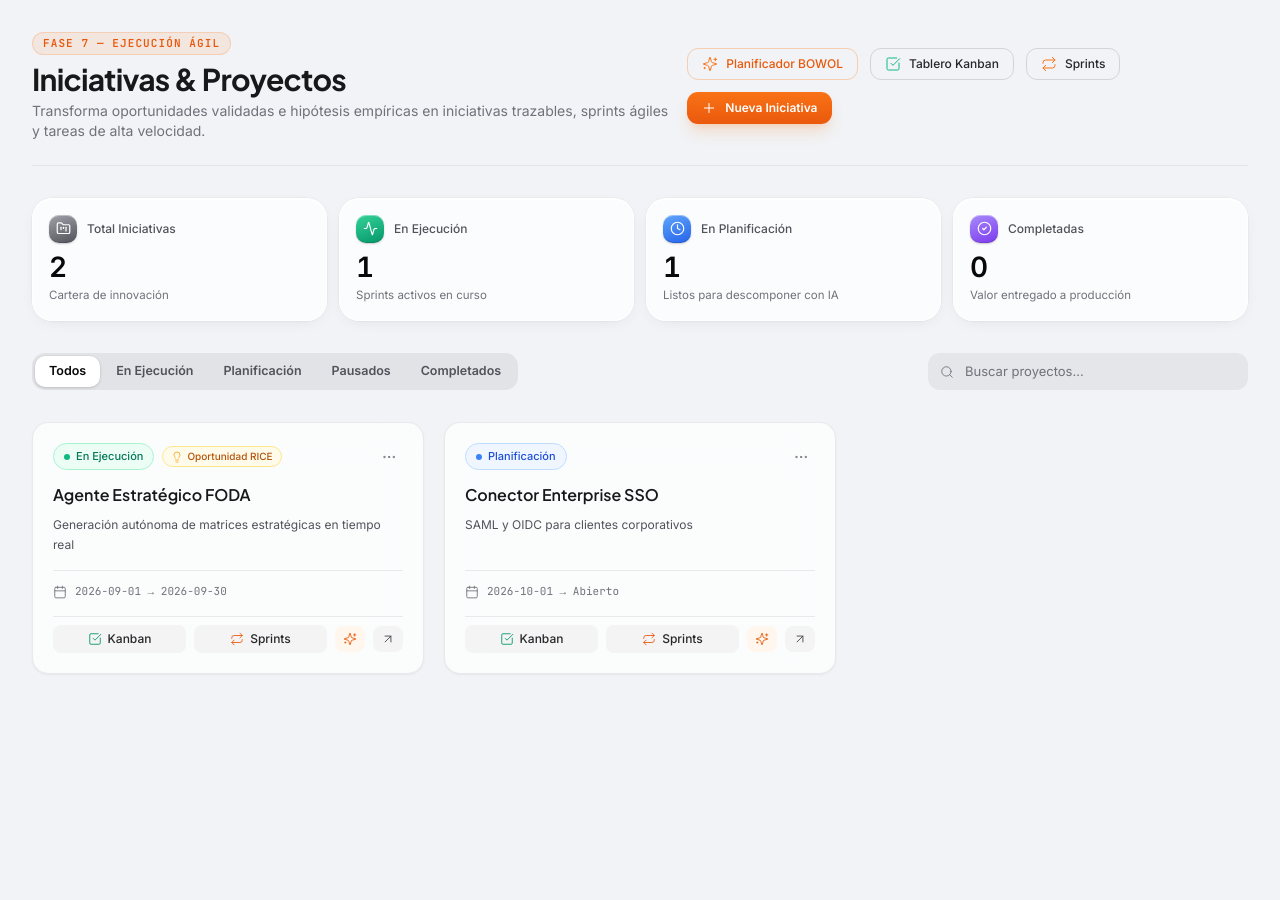
Test: ProjectsPage Component (Fase 7 - Ejecución Ágil) › permite filtrar proyectos por texto de búsqueda
Expected: the heading "Agente Estratégico FODA" is shown, [53,484,251,505]
Step 1. Type "SSO" into the search field with placeholder "Buscar proyectos..." → [1088, 372], box [928,353,1248,390]
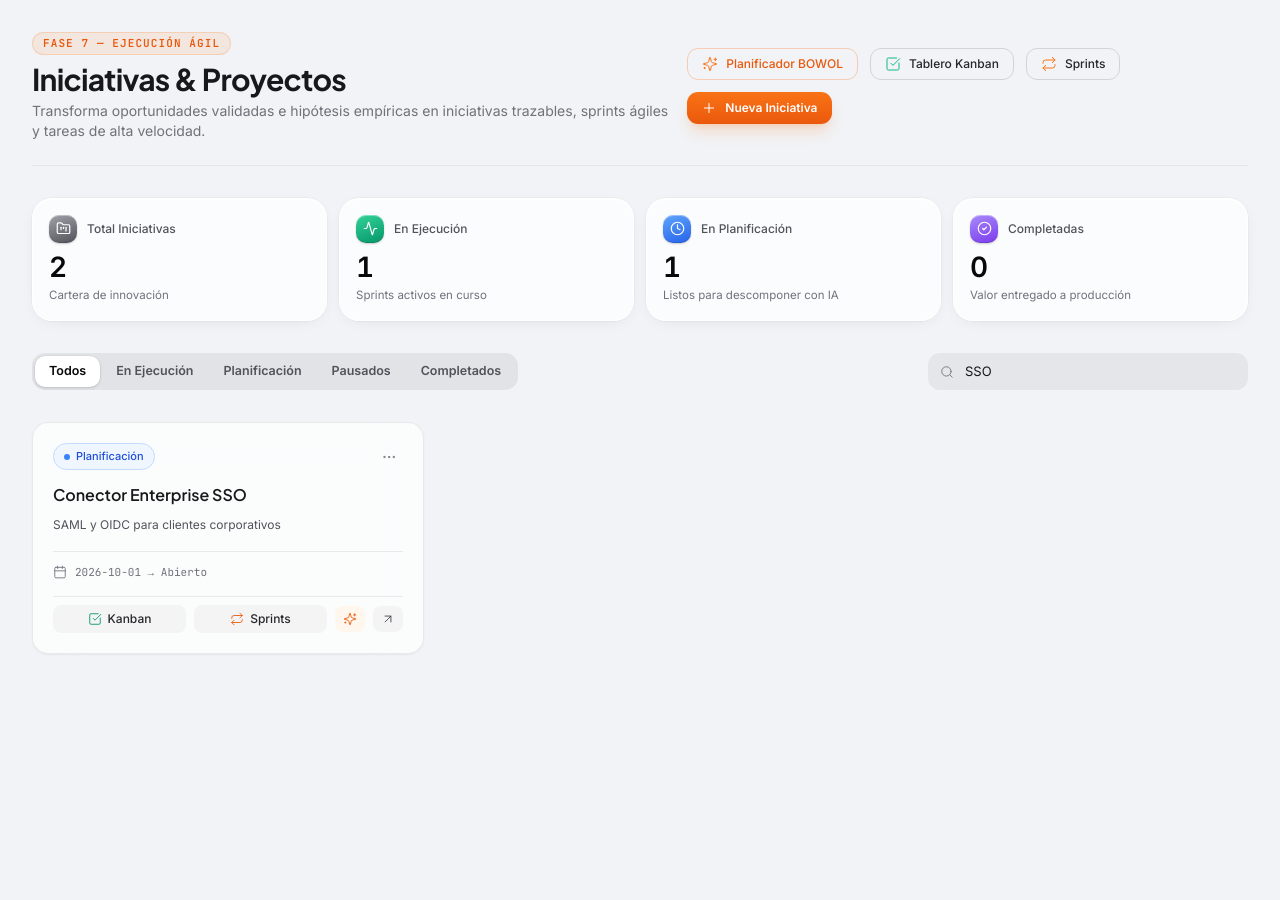
Expected: the heading "Conector Enterprise SSO" is shown, [53,484,247,505]
Result: the heading "Agente Estratégico FODA" is gone
